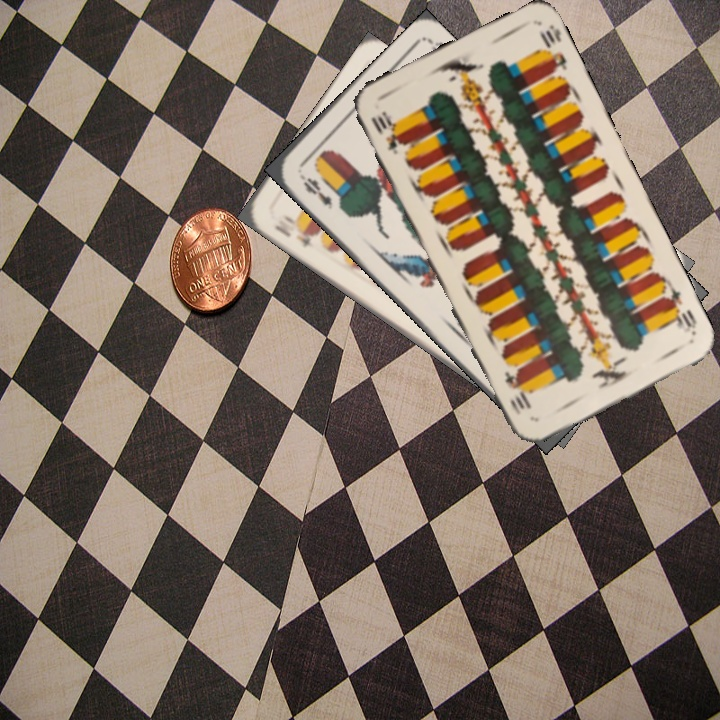E10: (659, 283, 700, 339), (366, 107, 407, 157), (270, 220, 320, 252)
EO: (294, 170, 336, 213)
